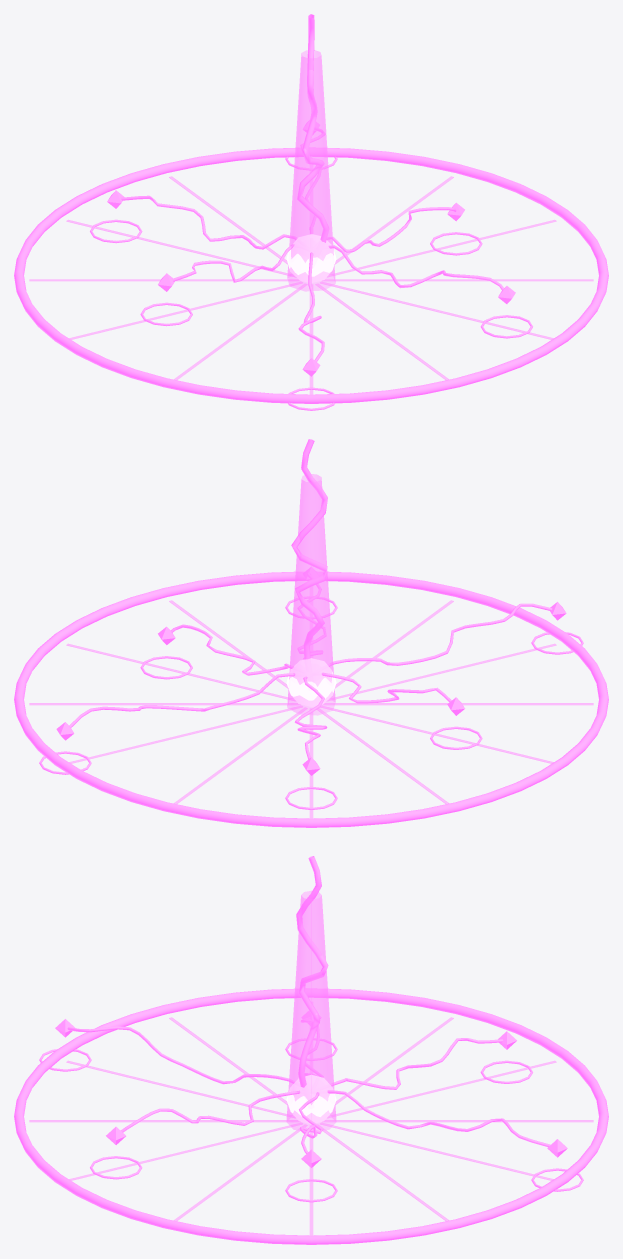
Rendered from vfx_ability_chainsurge.glb.
3 views of the same model, one above another, from view 1: azimuth 30°, elevation 25°; view 2: azimuth 150°, elevation 25°; view 3: azimuth 270°, elevation 25° (orthographic).
Visible parts, largest first — view 1: cs_ring, cs_pillar, cs_flash, cs_strike, cs_chain4, cs_chain1, cs_spoke1, cs_spoke7, cs_spoke2, cs_spoke6, cs_spoke0, cs_spoke8 (+5 smaller); view 2: cs_ring, cs_pillar, cs_strike, cs_flash, cs_chain2, cs_chain5, cs_spoke11, cs_spoke5, cs_chain3, cs_spoke10, cs_spoke6, cs_spoke4 (+5 smaller); view 3: cs_ring, cs_pillar, cs_strike, cs_flash, cs_chain5, cs_chain2, cs_chain1, cs_chain4, cs_spoke9, cs_spoke3, cs_spoke10, cs_spoke2 (+3 smaller).
Boxes of the visible parts, <box> form: cs_ring: <box>14,147,608,403</box>; cs_pillar: <box>287,50,335,291</box>; cs_flash: <box>286,234,336,282</box>; cs_strike: <box>297,14,329,242</box>; cs_chain4: <box>121,195,297,249</box>; cs_chain1: <box>328,245,503,290</box>; cs_spoke1: <box>322,279,593,281</box>; cs_spoke7: <box>29,279,299,281</box>; cs_spoke2: <box>320,281,553,339</box>; cs_spoke6: <box>69,281,302,339</box>; cs_spoke0: <box>327,220,556,277</box>; cs_spoke8: <box>66,220,296,277</box>; cs_ring: <box>14,571,608,827</box>; cs_pillar: <box>287,474,335,715</box>; cs_strike: <box>291,439,327,659</box>; cs_flash: <box>286,658,336,706</box>; cs_chain2: <box>327,603,552,666</box>; cs_chain5: <box>69,673,295,727</box>; cs_spoke11: <box>29,703,300,705</box>; cs_spoke5: <box>323,703,593,705</box>; cs_chain3: <box>321,672,451,703</box>; cs_spoke10: <box>69,705,302,763</box>; cs_spoke6: <box>320,705,553,763</box>; cs_spoke4: <box>327,643,556,701</box>; cs_ring: <box>14,988,608,1244</box>; cs_pillar: <box>286,890,336,1130</box>; cs_strike: <box>296,856,328,1087</box>; cs_flash: <box>286,1074,336,1124</box>; cs_chain5: <box>327,1090,550,1146</box>; cs_chain2: <box>67,1026,294,1084</box>; cs_chain1: <box>121,1090,300,1132</box>; cs_chain4: <box>330,1038,503,1089</box>; cs_spoke9: <box>323,1120,593,1122</box>; cs_spoke3: <box>29,1120,299,1122</box>; cs_spoke10: <box>320,1122,553,1180</box>; cs_spoke2: <box>69,1122,302,1180</box>.
Size of the model in its own units: 14.24 by 7.03 by 14.24.
